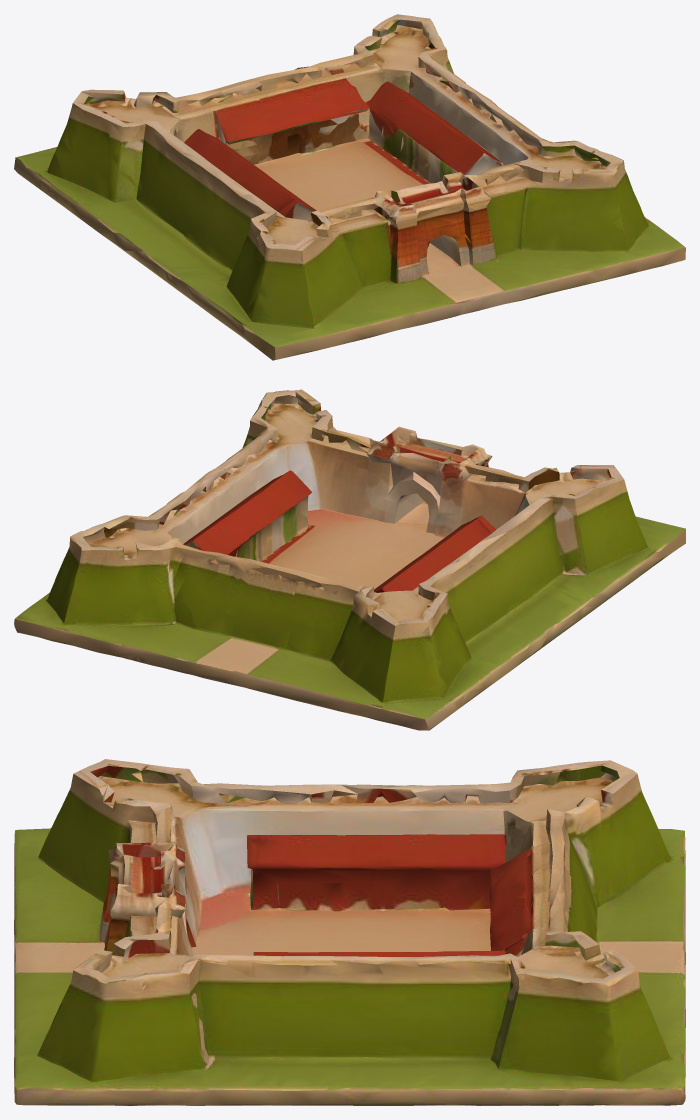
Rendered from eternal-golden-castle.glb.
3 renders of one model, top to bottom at view 1: azimuth 30°, elevation 25°; view 2: azimuth 150°, elevation 25°; view 3: azimuth 270°, elevation 25°, orthographic. The views are drawn at different scales.
Parts seen in each view (by area): view 1: logan-textured.obj; view 2: logan-textured.obj; view 3: logan-textured.obj.
Boxes of the visible parts, x1=… form: logan-textured.obj: x1=14, y1=14, x2=685, y2=360; logan-textured.obj: x1=14, y1=389, x2=685, y2=730; logan-textured.obj: x1=14, y1=759, x2=685, y2=1105.
Size of the model in its own units: 0.9195 by 0.1793 by 1.
Materials: 1 (1 with a texture image).
